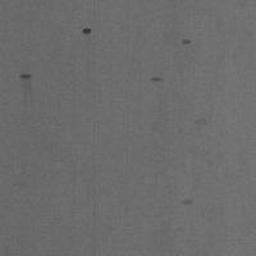Inclusion: (195, 118, 207, 125), (182, 199, 192, 205), (20, 74, 31, 79), (151, 77, 162, 82), (82, 28, 91, 34), (182, 39, 191, 45)
